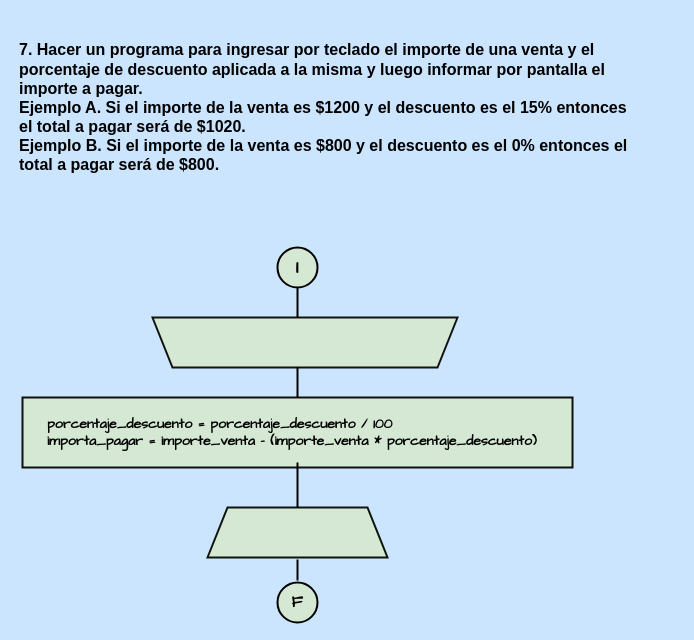
Image size: 694x640. Some labels were removed from this diagram. The centre of each missing label's shape, as x and y in pixels:
importe_pagar: (x=297, y=532)
importe_venta, porcentaje_descuento: (x=304, y=342)
